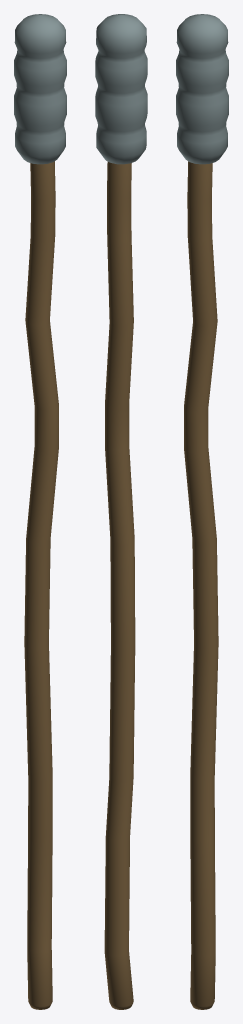
File: torch.fbx
The picture shows the model from 3 angles, left to right: view 1: azimuth 90°, elevation 25°; view 2: azimuth 210°, elevation 25°; view 3: azimuth 270°, elevation 25°; orthographic projection.
Visible parts, largest first — view 1: Stick, Cloth; view 2: Stick, Cloth; view 3: Stick, Cloth.
Part boxes in pixels (<box>): Stick: <box>24,161,58,1009</box>; Cloth: <box>14,14,66,164</box>; Stick: <box>104,162,135,1009</box>; Cloth: <box>95,14,147,164</box>; Stick: <box>184,161,218,1009</box>; Cloth: <box>176,14,228,164</box>.
Bounding box in the file's own units: 4.31 × 89.2 × 4.31.
